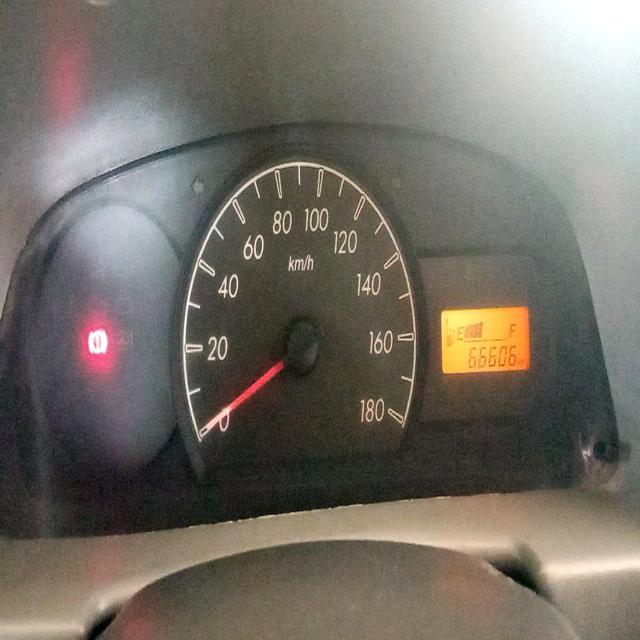odometer: (467, 343, 516, 371)
